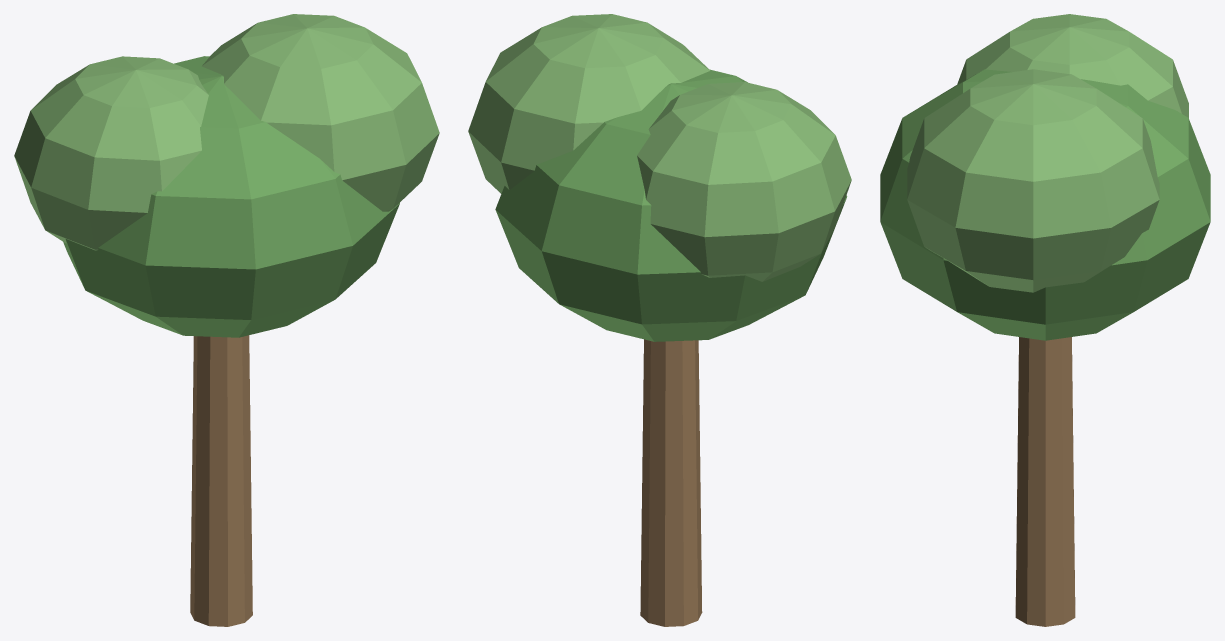
File: treeSmall.glb
The picture shows the model from 3 angles, left to right: view 1: azimuth 30°, elevation 25°; view 2: azimuth 150°, elevation 25°; view 3: azimuth 270°, elevation 25°; orthographic projection.
Visible parts, largest first — view 1: treeSmall; view 2: treeSmall; view 3: treeSmall.
Boxes of the visible parts, box(x1,y1,x2,y2) form: treeSmall: box(14, 14, 439, 626); treeSmall: box(468, 14, 851, 626); treeSmall: box(880, 14, 1210, 626).
Bounding box in the file's own units: 1.78 × 2.6 × 1.37.
